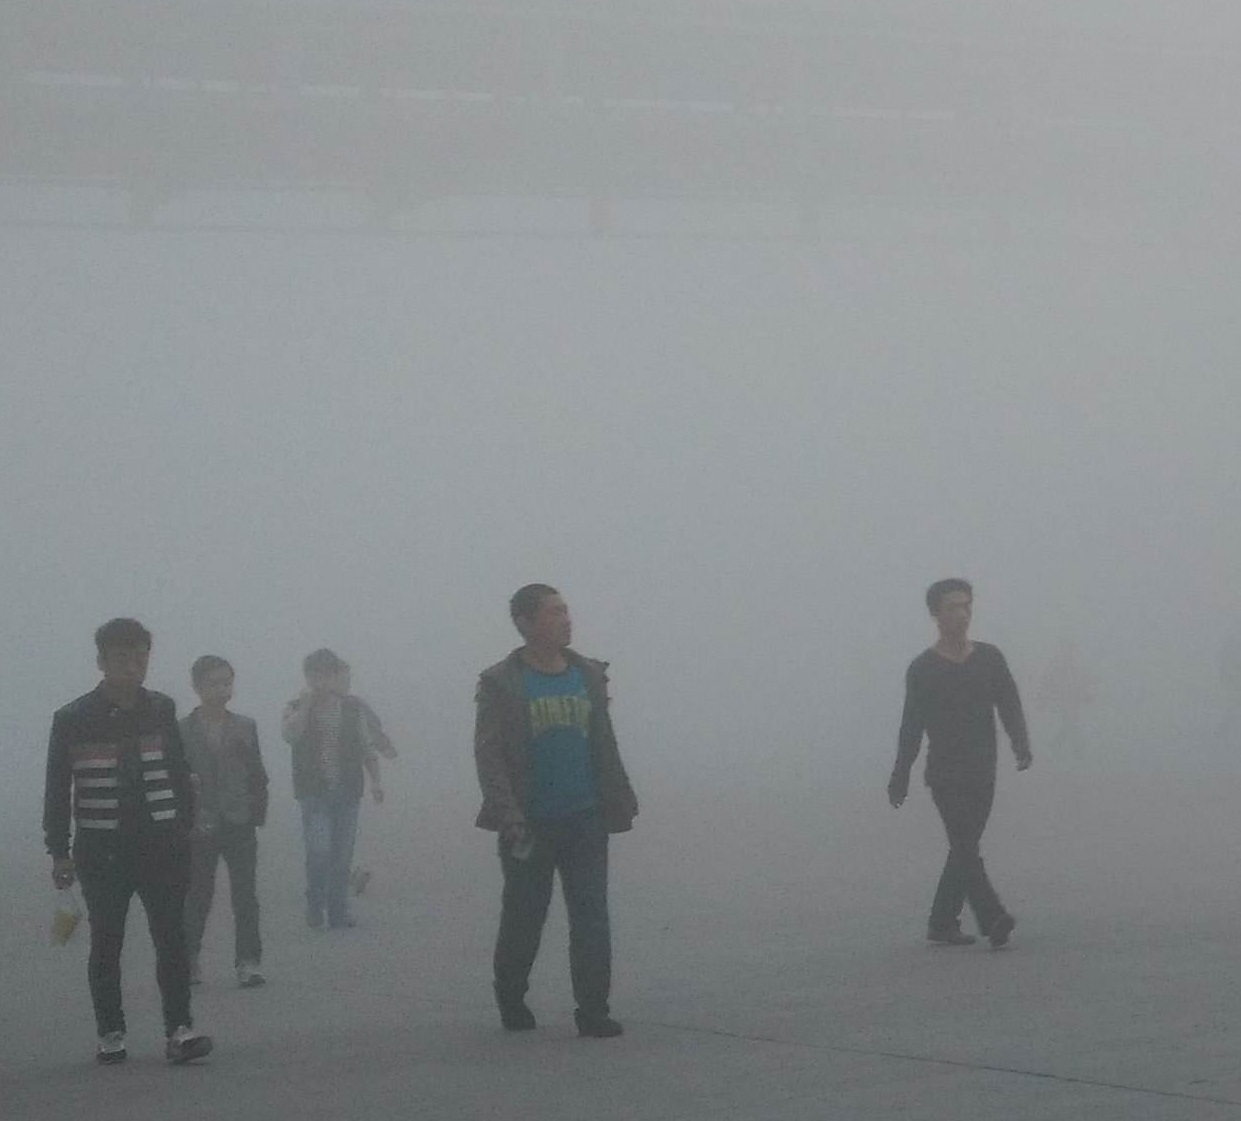person: (469, 573, 651, 1047), (38, 614, 225, 1073), (883, 575, 1038, 954), (169, 651, 278, 997), (275, 644, 395, 940)
